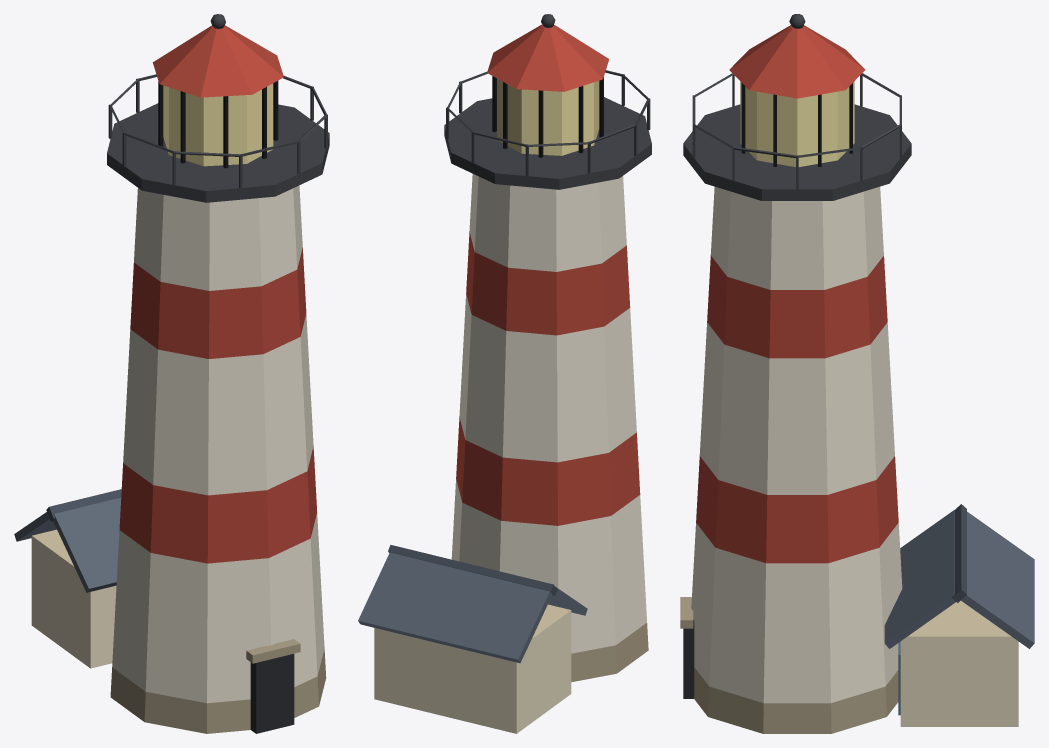
The model's file is lighthouse.glb.
3 renders of one model, left to right at view 1: azimuth 30°, elevation 25°; view 2: azimuth 150°, elevation 25°; view 3: azimuth 270°, elevation 25°, orthographic. The views are drawn at different scales.
Visible parts, largest first — view 1: LOD0; view 2: LOD0; view 3: LOD0.
Boxes of the visible parts, x1,y1,x2,y2 form: LOD0: (14,14,329,733); LOD0: (358,14,651,733); LOD0: (680,14,1034,733).
Size of the model in its own units: 5.97 by 20.22 by 9.61.
1 material, 1 textured.
